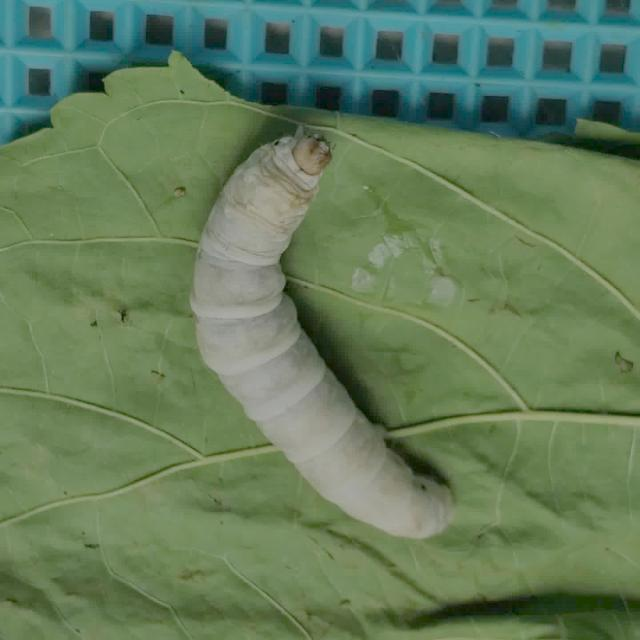Grasserie: (151, 102, 481, 559)
